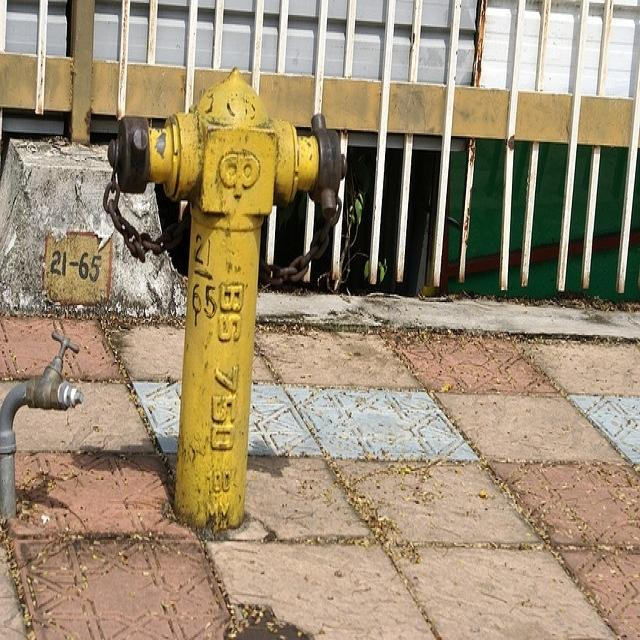fire_hydrant: (86, 28, 360, 567)
